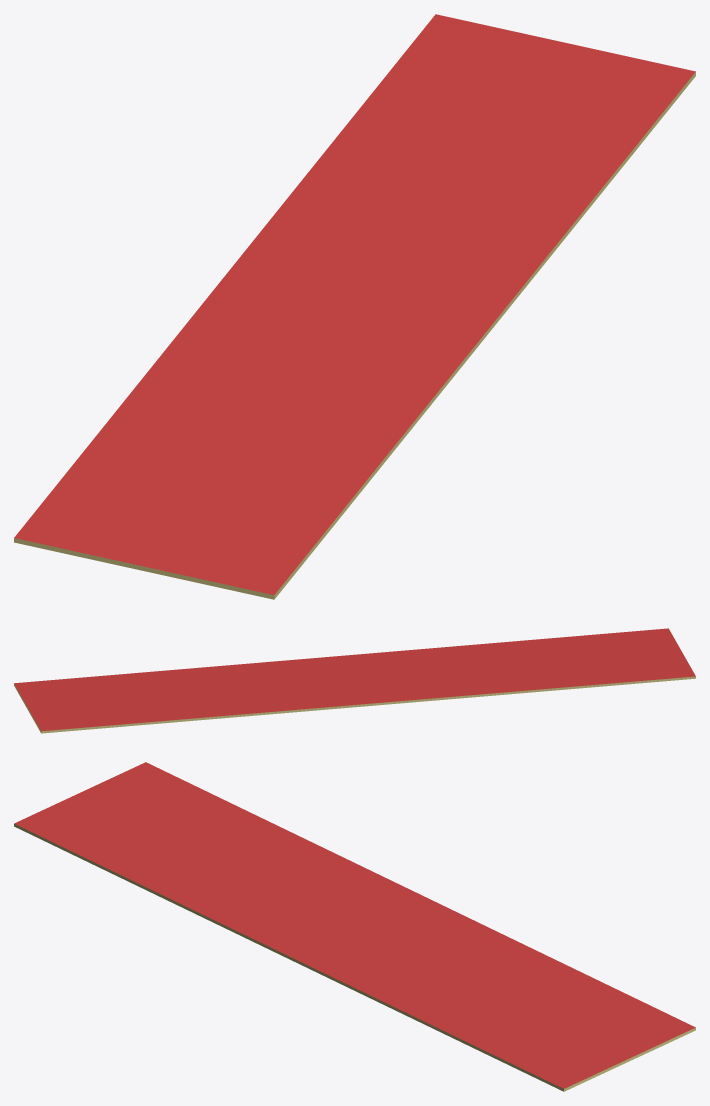
The picture shows the model from 3 angles, top to bottom: view 1: azimuth 30°, elevation 25°; view 2: azimuth 150°, elevation 25°; view 3: azimuth 270°, elevation 25°; orthographic projection. The views are drawn at different scales.
Bounding box in the file's own units: 23.27 × 21.34 × 0.537.
